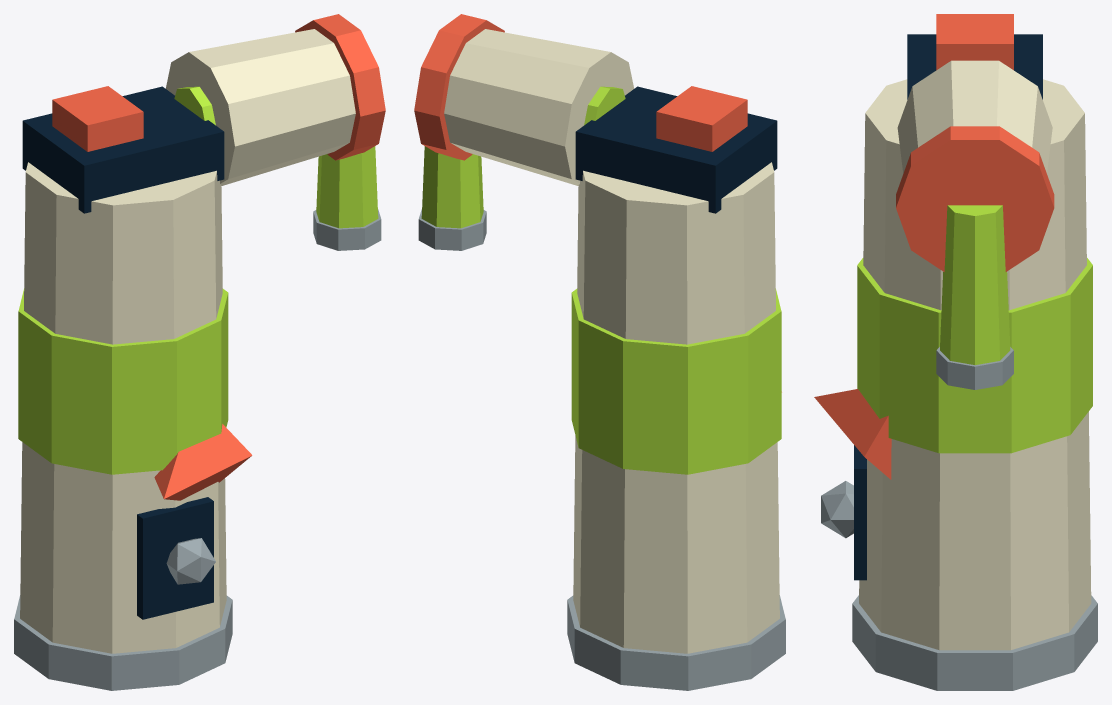
The model's file is stratosphere-spray-v1-BImNnQ3e.glb.
3 renders of one model, left to right at view 1: azimuth 30°, elevation 25°; view 2: azimuth 150°, elevation 25°; view 3: azimuth 270°, elevation 25°, orthographic. The views are drawn at different scales.
Parts seen in each view (by area): view 1: SSV1_CanBody, SSV1_LimeBand, SSV1_Cap, SSV1_PumpHead, SSV1_BottomCollar, SSV1_InspectionWindow, SSV1_CapStripe, SSV1_PumpButton, SSV1_Downspout, SSV1_LabelChevron, SSV1_NozzleMouth, SSV1_RattleBall (+1 smaller); view 2: SSV1_CanBody, SSV1_LimeBand, SSV1_Cap, SSV1_PumpHead, SSV1_BottomCollar, SSV1_CapStripe, SSV1_PumpButton, SSV1_Downspout, SSV1_NozzleMouth, SSV1_Nozzle; view 3: SSV1_CanBody, SSV1_LimeBand, SSV1_CapStripe, SSV1_BottomCollar, SSV1_Downspout, SSV1_Cap, SSV1_PumpButton, SSV1_LabelChevron, SSV1_PumpHead, SSV1_NozzleMouth, SSV1_InspectionWindow, SSV1_RattleBall.
Part boxes in pixels (x1,y1,x2,y2): SSV1_CanBody: (20, 162, 226, 653); SSV1_LimeBand: (18, 288, 228, 474); SSV1_Cap: (165, 29, 355, 185); SSV1_PumpHead: (22, 86, 224, 213); SSV1_BottomCollar: (14, 595, 232, 690); SSV1_InspectionWindow: (137, 497, 213, 619); SSV1_CapStripe: (295, 14, 385, 160); SSV1_PumpButton: (52, 86, 143, 151); SSV1_Downspout: (316, 146, 378, 228); SSV1_LabelChevron: (154, 424, 252, 500); SSV1_NozzleMouth: (313, 209, 381, 250); SSV1_RattleBall: (166, 538, 215, 584); SSV1_CanBody: (573, 162, 779, 653); SSV1_LimeBand: (571, 288, 781, 474); SSV1_Cap: (444, 29, 634, 185); SSV1_PumpHead: (575, 86, 777, 213); SSV1_BottomCollar: (567, 595, 785, 690); SSV1_CapStripe: (414, 14, 504, 160); SSV1_PumpButton: (656, 86, 747, 151); SSV1_Downspout: (421, 146, 483, 228); SSV1_NozzleMouth: (418, 209, 486, 250); SSV1_Nozzle: (584, 86, 625, 125); SSV1_CanBody: (859, 79, 1091, 650); SSV1_LimeBand: (857, 258, 1092, 453); SSV1_CapStripe: (896, 126, 1054, 271); SSV1_BottomCollar: (852, 595, 1097, 690); SSV1_Downspout: (940, 205, 1010, 365); SSV1_Cap: (897, 60, 1052, 173); SSV1_PumpButton: (936, 14, 1013, 70); SSV1_LabelChevron: (814, 389, 891, 479); SSV1_PumpHead: (907, 34, 1042, 99); SSV1_NozzleMouth: (936, 347, 1013, 389); SSV1_InspectionWindow: (854, 445, 866, 580); SSV1_RattleBall: (821, 481, 853, 538).
Size of the model in its own units: 1.36 by 2.13 by 0.8785.
